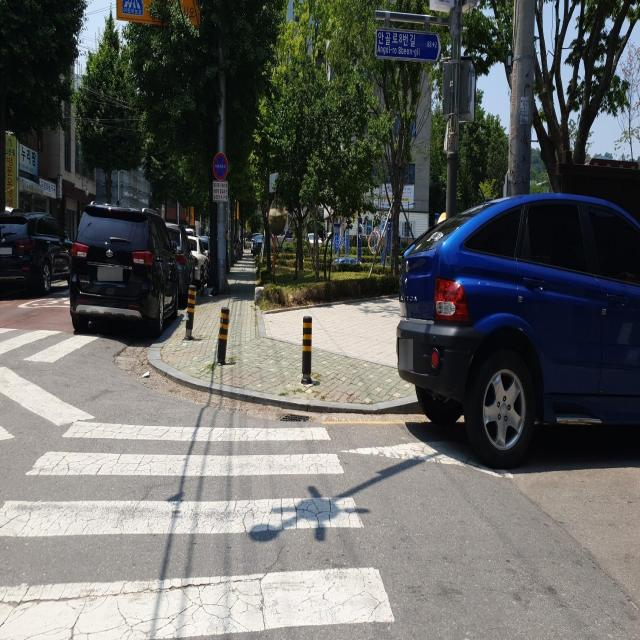횡단보도: (2, 416, 398, 637)
